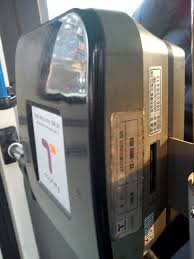terminal: (5, 6, 183, 259)
